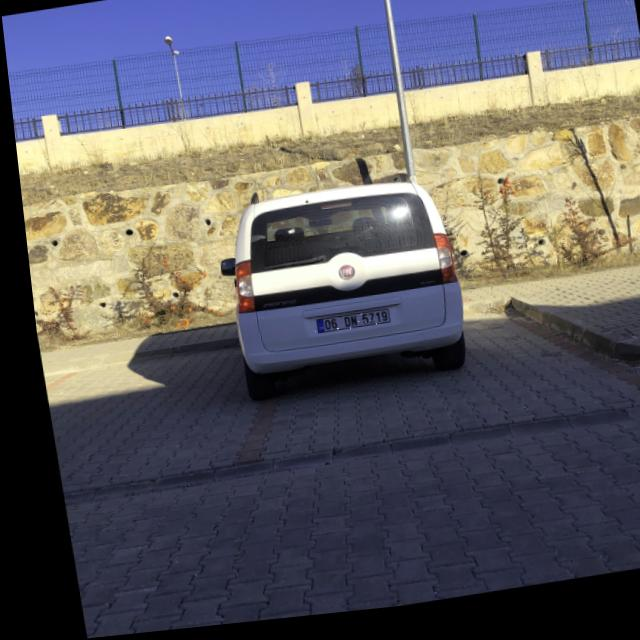license_plate: (309, 316, 383, 340)
